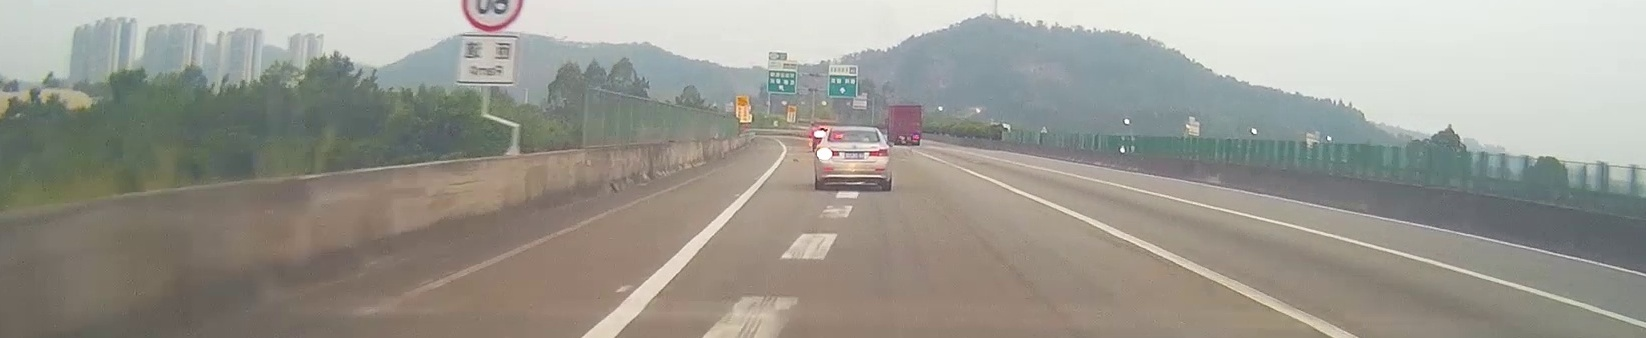L_light: (816, 148, 839, 157)
R_light: (869, 149, 889, 157)
T_light: (847, 130, 860, 133)
day-left: (814, 128, 890, 191)
